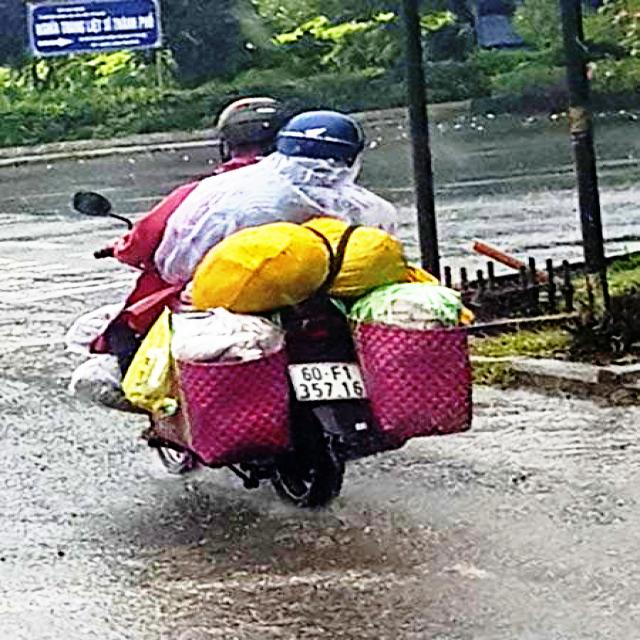license_plate: (291, 363, 370, 403)
